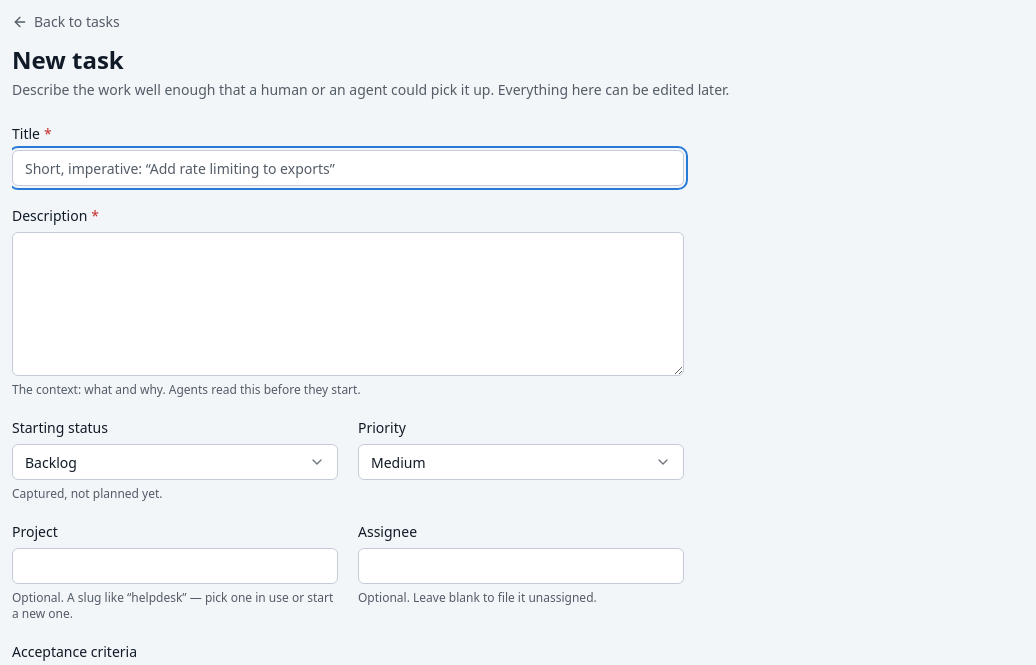
it: TaskCreatePage › only offers the three statuses a task may start in
The image size is (1036, 665).
What coordinates should you click on to do the following:
click the dropdown named "starting status"
I would click on:
 (51, 462)
Its box is [12, 444, 338, 480].
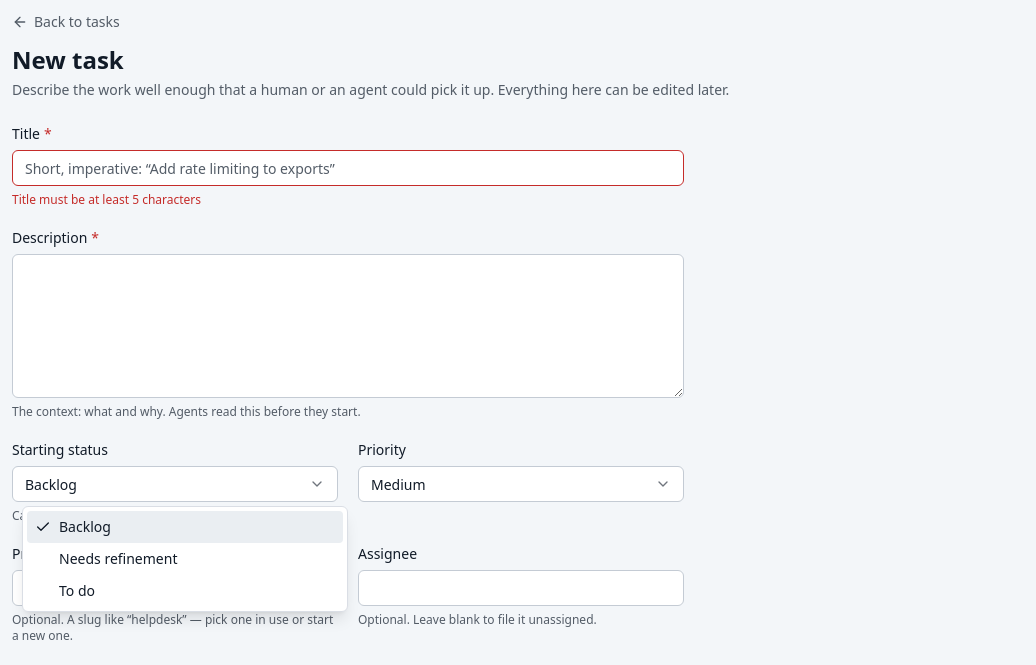
Now the options read "Backlog", "Needs refinement", "To do", in this order, box [27, 511, 343, 543]; [59, 549, 178, 568]; [59, 581, 95, 600]
